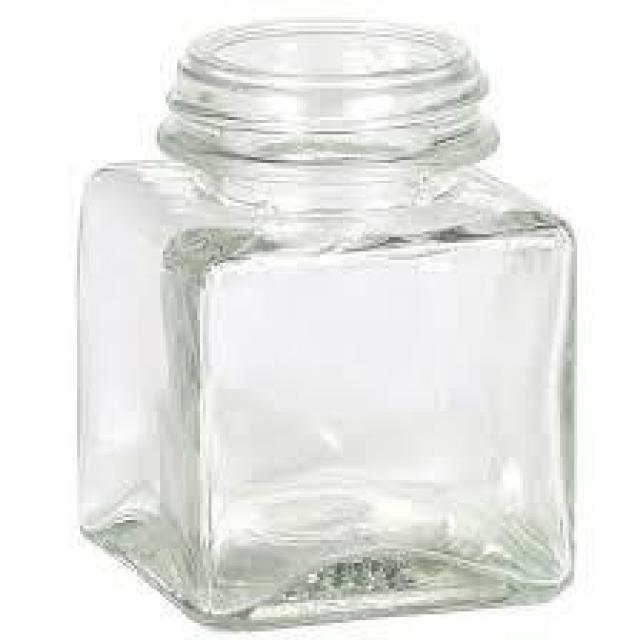non-organic waste: (65, 13, 584, 638)
